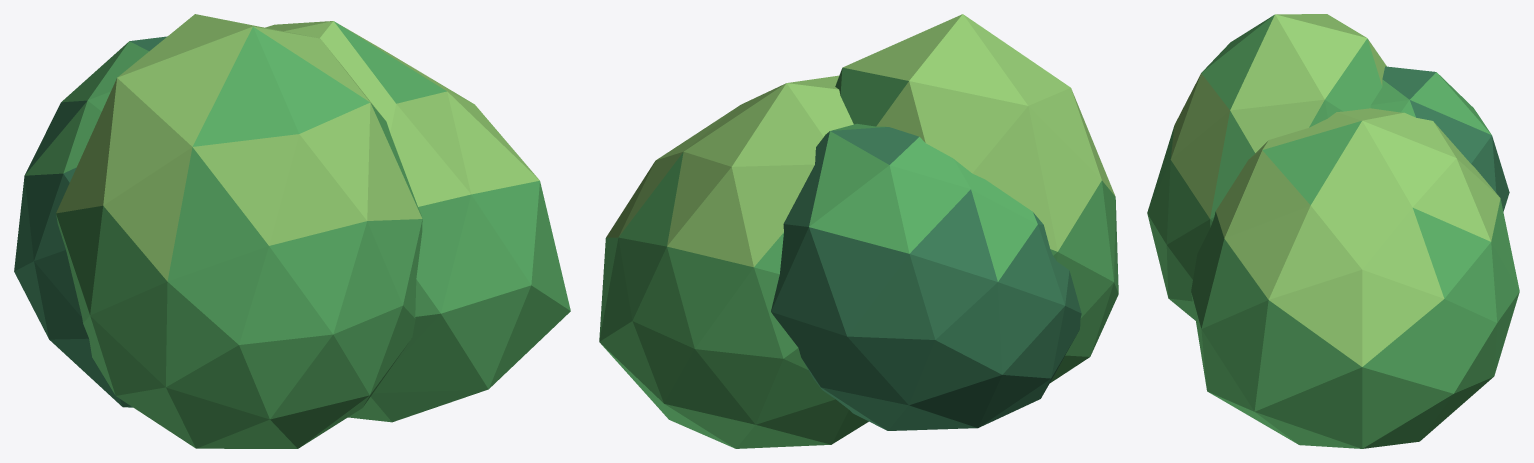
The model's file is bush_round_a.glb.
3 renders of one model, left to right at view 1: azimuth 30°, elevation 25°; view 2: azimuth 150°, elevation 25°; view 3: azimuth 270°, elevation 25°, orthographic. The views are drawn at different scales.
Visible parts, largest first — view 1: BushRoundA; view 2: BushRoundA; view 3: BushRoundA.
Boxes of the visible parts, x1,y1,x2,y2 form: BushRoundA: (14, 14, 570, 448); BushRoundA: (599, 14, 1118, 448); BushRoundA: (1147, 14, 1519, 448).
Bounding box in the file's own units: 1.12 × 0.9241 × 0.9194.
